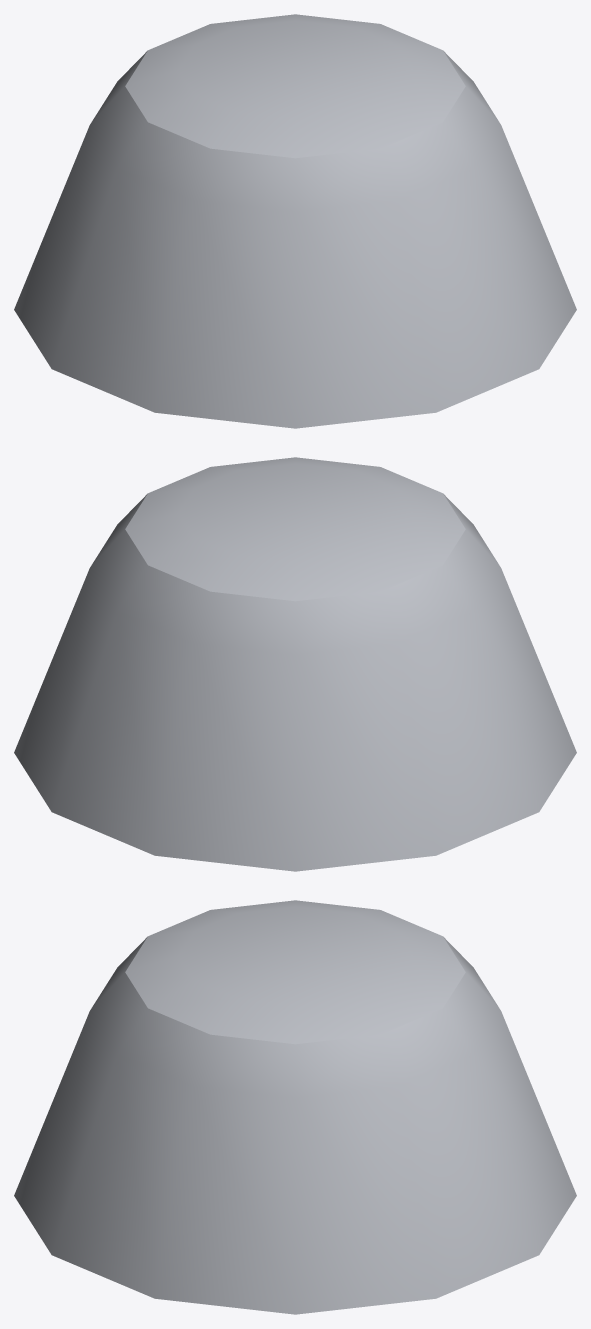
File: RockBig_B.fbx
3 renders of one model, top to bottom at view 1: azimuth 30°, elevation 25°; view 2: azimuth 150°, elevation 25°; view 3: azimuth 270°, elevation 25°, orthographic.
Visible parts, largest first — view 1: RockBig_B; view 2: RockBig_B; view 3: RockBig_B.
Boxes of the visible parts, x1=… form: RockBig_B: x1=14, y1=14, x2=576, y2=428; RockBig_B: x1=14, y1=457, x2=576, y2=871; RockBig_B: x1=14, y1=900, x2=576, y2=1314.
Bounding box in the file's own units: 200 × 93.87 × 200.
